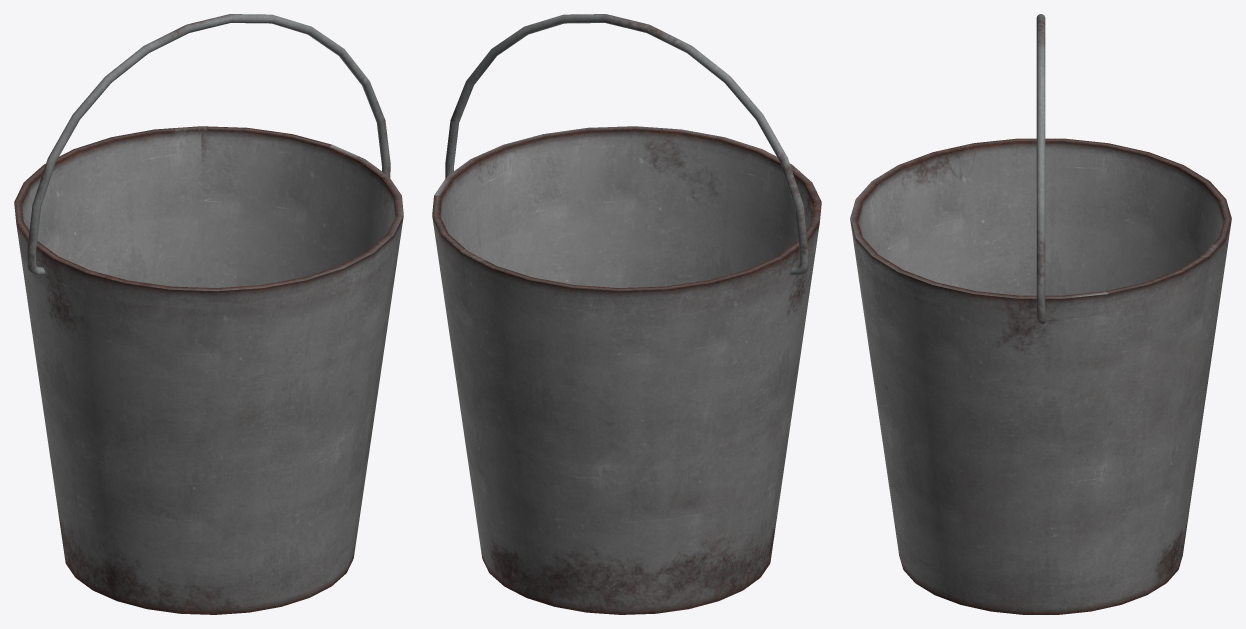
File: water_bucket.glb
3 views of the same model, side by side, from view 1: azimuth 30°, elevation 25°; view 2: azimuth 150°, elevation 25°; view 3: azimuth 270°, elevation 25° (orthographic). The views are drawn at different scales.
Visible parts, largest first — view 1: SM_bucket_2, SM_bucket.001_3; view 2: SM_bucket_2, SM_bucket.001_3; view 3: SM_bucket_2, SM_bucket.001_3.
Boxes of the visible parts, box(x1,y1,x2,y2) form: SM_bucket_2: box(14, 126, 403, 614); SM_bucket.001_3: box(27, 14, 390, 275); SM_bucket_2: box(432, 126, 821, 614); SM_bucket.001_3: box(445, 14, 808, 275); SM_bucket_2: box(850, 138, 1231, 614); SM_bucket.001_3: box(1036, 14, 1045, 324).
Bounding box in the file's own units: 0.5058 × 0.7123 × 0.4725.
Materials: 1 (1 with a texture image).
